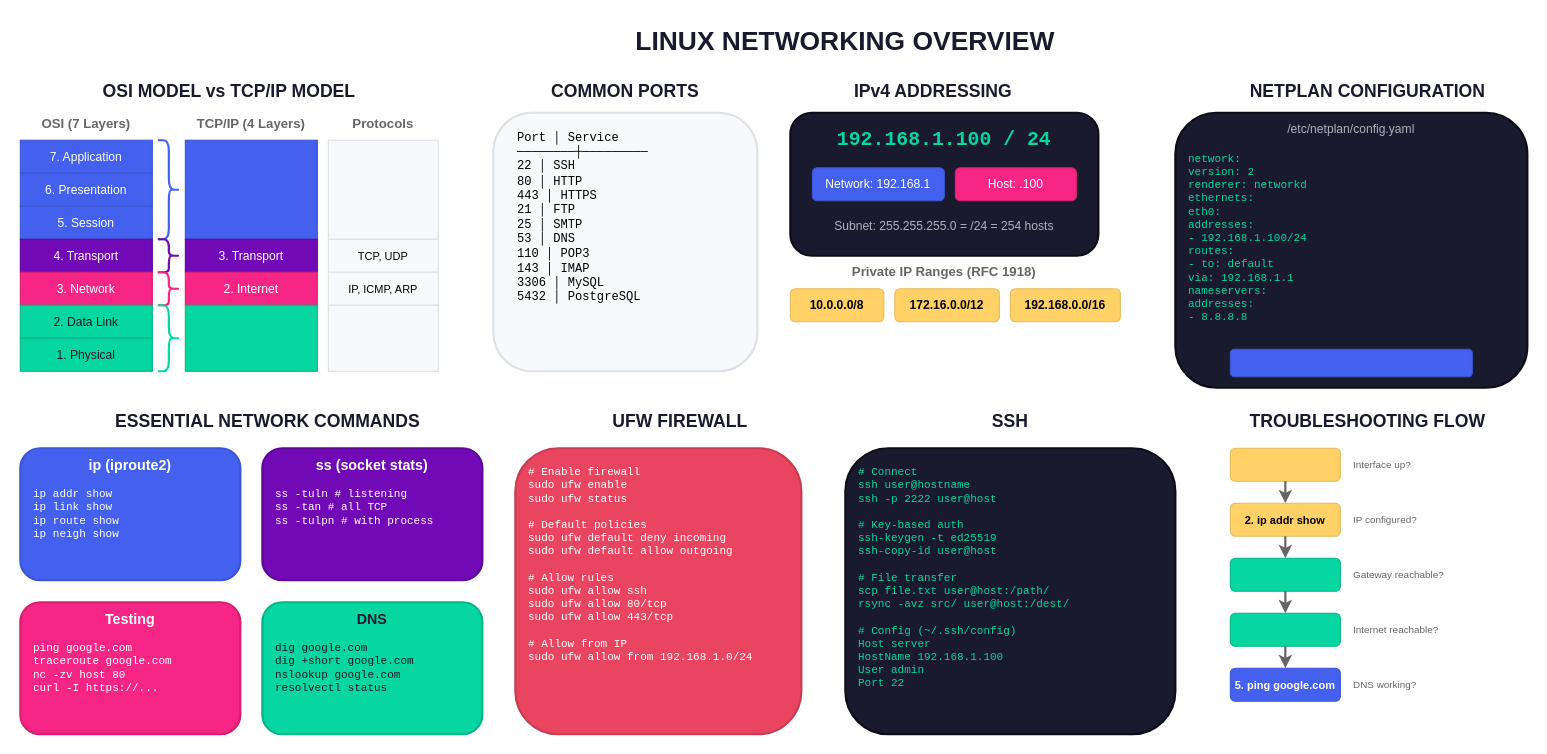
The diagram is 1547 pixels wide and 754 high, and some of its shapes have lost their labels. The box of each missing label's shape, as (x1, y1, x2, y2) in pixels:
1. ip link show: (1229, 447, 1340, 481)
1. Network Access: (184, 304, 317, 371)
3. ping gateway: (1229, 557, 1340, 591)
4. Application: (184, 139, 317, 239)
4. ping 8.8.8.8: (1229, 612, 1340, 646)
Ethernet, Wi-Fi: (327, 304, 438, 371)
HTTP, FTP, SSH DNS, SMTP: (327, 139, 438, 239)
sudo netplan apply: (1229, 348, 1472, 377)
